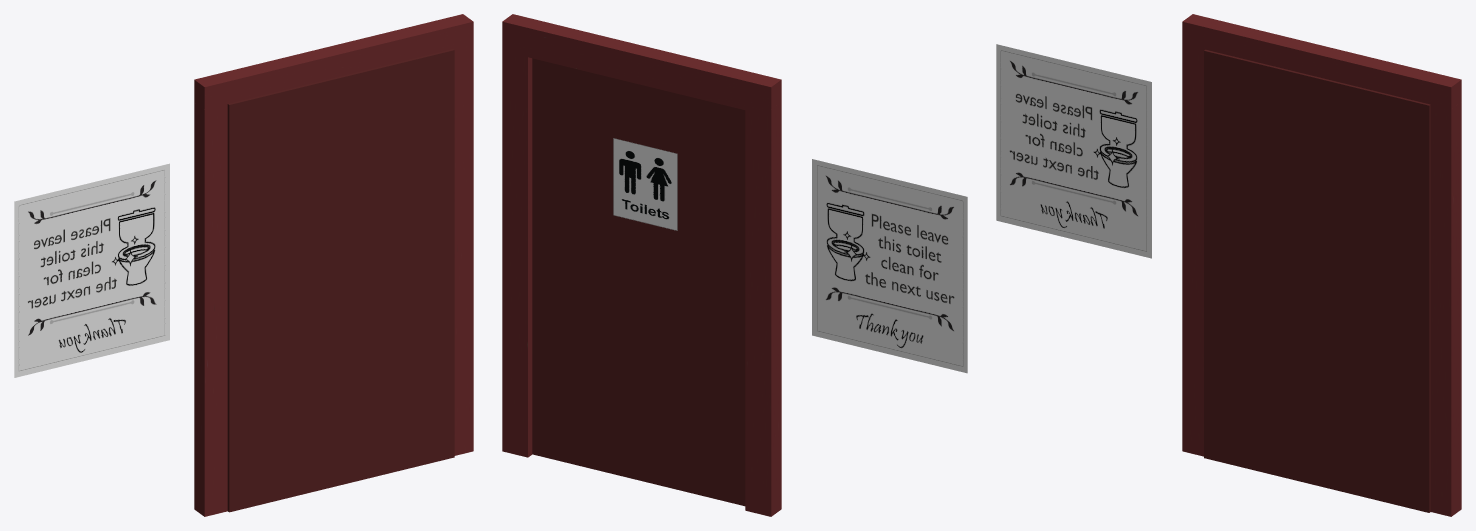
Rendered from doors for beat boxing.fbx.
3 views of the same model, side by side, from view 1: azimuth 30°, elevation 25°; view 2: azimuth 150°, elevation 25°; view 3: azimuth 330°, elevation 25° (orthographic).
Parts seen in each view (by area): view 1: polySurface721, polySurface716, polySurface720; view 2: polySurface721, polySurface716, polySurface720, polySurface719; view 3: polySurface721, polySurface716, polySurface720.
Boxes of the visible parts, left/top/right/bottom form: polySurface721: left=227, top=49, right=454, bottom=512; polySurface716: left=194, top=14, right=473, bottom=516; polySurface720: left=14, top=163, right=169, bottom=377; polySurface721: left=532, top=58, right=745, bottom=506; polySurface716: left=502, top=14, right=781, bottom=516; polySurface720: left=812, top=159, right=967, bottom=373; polySurface719: left=613, top=138, right=677, bottom=230; polySurface721: left=1204, top=49, right=1430, bottom=512; polySurface716: left=1182, top=14, right=1461, bottom=516; polySurface720: left=996, top=44, right=1151, bottom=258.
Bounding box in the file's own units: 197 × 177 × 8.95.
